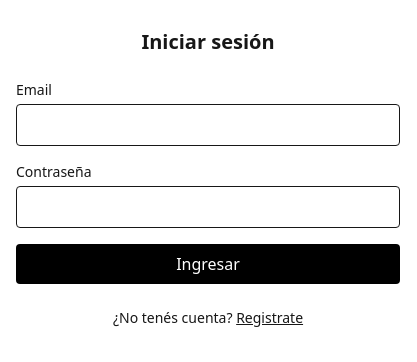
Test: LoginPage › muestra el mensaje de error si el Server Action falla
The width and height of the screenshot is (417, 362).
Type "barbero@test.com" into the field labelled "Email". click: (208,125)
box: [16,104,400,146]
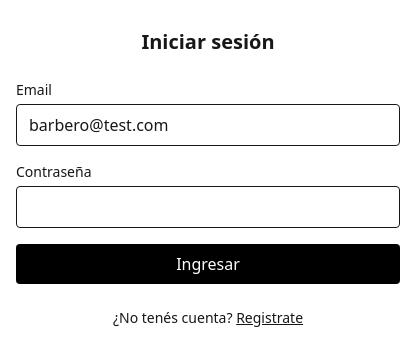
Type "123456" into the password field labelled "Contraseña". click: (208,207)
box: [16,186,400,228]
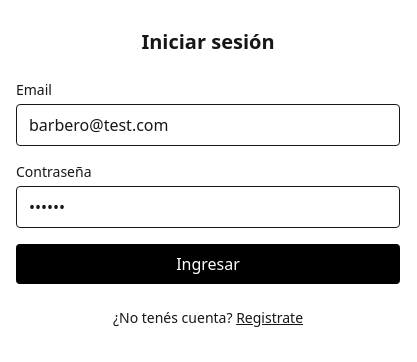
Click the button "Ingresar". click: (208,264)
box: [16,244,400,284]
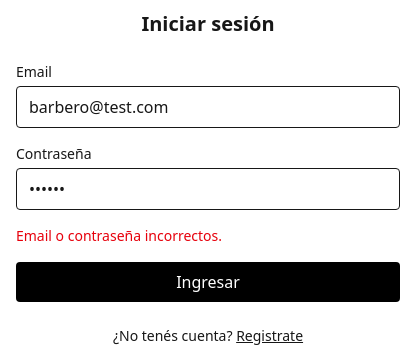
Result: the text "Email o contraseña incorrectos." is shown at [16,226,222,245]
